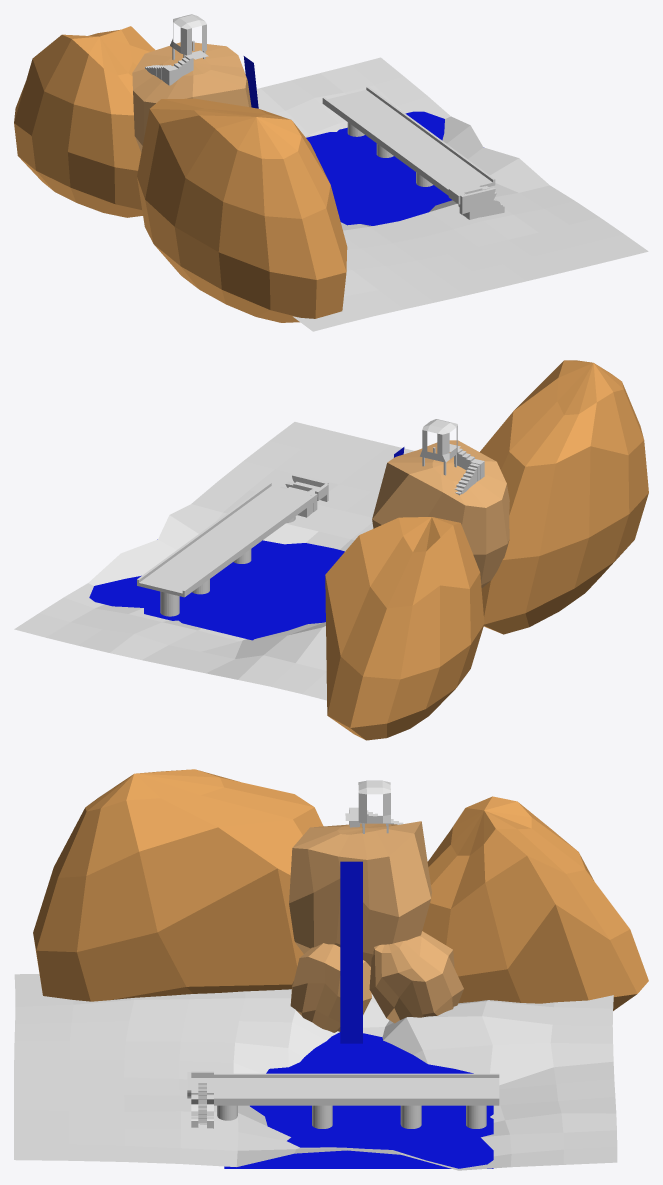
The model's file is Riverbed._Experiment.glb.
The picture shows the model from 3 angles, top to bottom: view 1: azimuth 30°, elevation 25°; view 2: azimuth 150°, elevation 25°; view 3: azimuth 270°, elevation 25°; orthographic projection. The views are drawn at different scales.
Visible parts, largest first — view 1: Hills -col, Riverbed -col, Water -col, Bridge -col, Foundation -col, Stairway, Tower -col, Stairway -col; view 2: Hills -col, Riverbed -col, Water -col, Foundation -col, Bridge -col, Tower -col, Stairway, Stairway -col; view 3: Hills -col, Riverbed -col, Foundation -col, Water -col, Bridge -col, Waterfall, Stairway, Tower -col.
Part boxes in pixels (bbox=[...]): Hills -col: bbox=[14, 26, 347, 322]; Riverbed -col: bbox=[256, 57, 648, 331]; Water -col: bbox=[306, 111, 452, 225]; Bridge -col: bbox=[322, 86, 495, 206]; Foundation -col: bbox=[132, 42, 251, 152]; Stairway: bbox=[448, 186, 504, 219]; Tower -col: bbox=[170, 14, 206, 60]; Stairway -col: bbox=[145, 55, 193, 85]; Hills -col: bbox=[325, 360, 648, 740]; Riverbed -col: bbox=[14, 422, 414, 700]; Water -col: bbox=[89, 539, 344, 640]; Foundation -col: bbox=[372, 440, 509, 588]; Bridge -col: bbox=[137, 482, 317, 616]; Tower -col: bbox=[420, 419, 457, 475]; Stairway: bbox=[280, 474, 328, 517]; Stairway -col: bbox=[454, 448, 484, 495]; Hills -col: bbox=[33, 769, 648, 1010]; Riverbed -col: bbox=[14, 974, 617, 1170]; Foundation -col: bbox=[289, 821, 463, 1032]; Water -col: bbox=[224, 1032, 493, 1168]; Bridge -col: bbox=[214, 1073, 499, 1128]; Waterfall: bbox=[340, 861, 362, 1043]; Stairway: bbox=[187, 1071, 213, 1128]; Tower -col: bbox=[358, 780, 390, 833].
Size of what is drawn, in the model's own units: 57.6 by 32.74 by 70.93.
